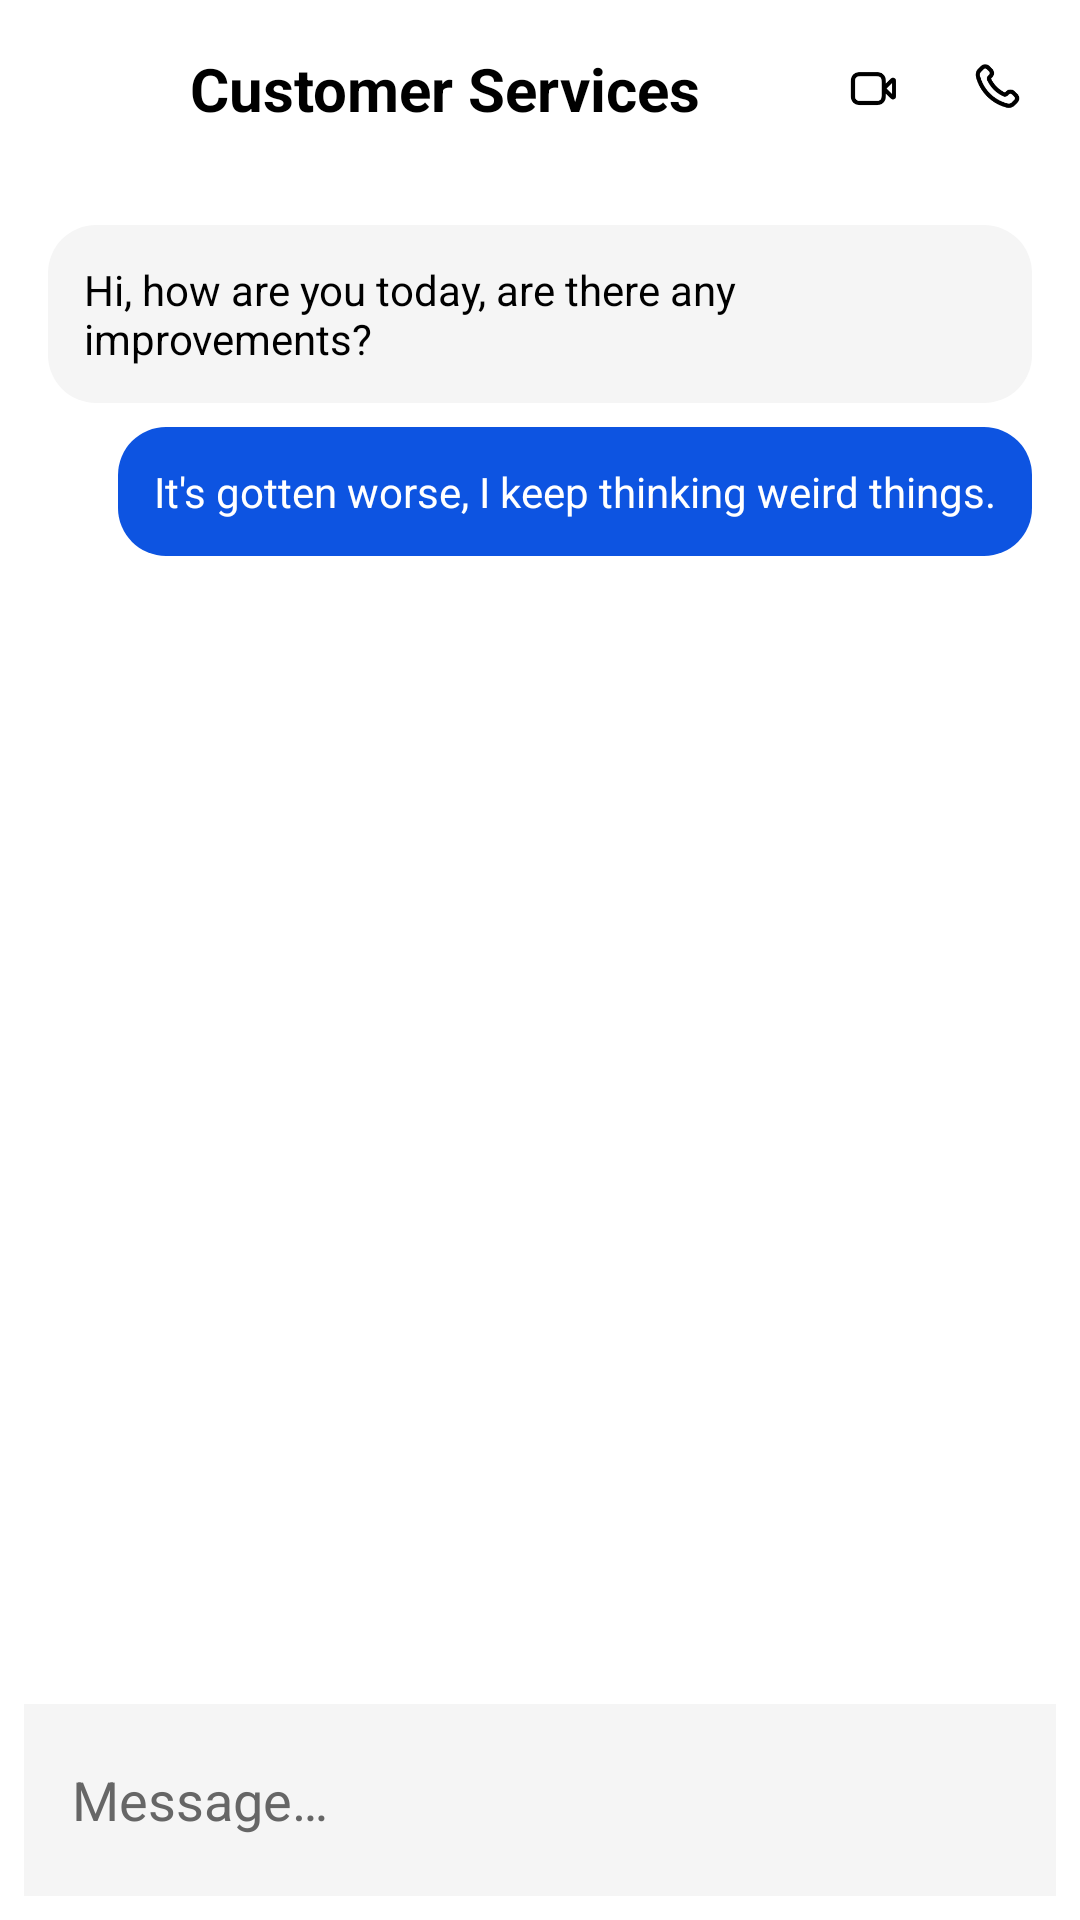

Icons on this 1080*1920 Android screen, each with the point to tap as [x,y]:
Video Call: [873,88]
Voice Call: [997,86]
